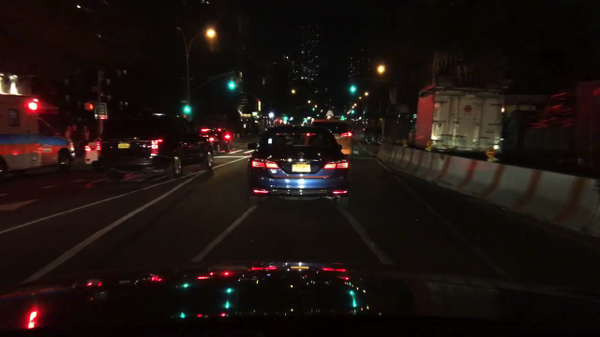bike: (367, 135, 384, 144)
car: (248, 125, 350, 210), (99, 110, 216, 180), (311, 118, 354, 162), (200, 127, 235, 154), (81, 133, 103, 169), (241, 118, 260, 136)
traffic light: (184, 104, 190, 115), (350, 85, 355, 95), (87, 103, 94, 110), (230, 77, 234, 89), (350, 110, 354, 114), (283, 117, 287, 120), (313, 108, 314, 110)
traffic sign: (94, 103, 107, 119), (389, 85, 396, 104), (93, 87, 98, 92), (181, 101, 189, 103)
truck: (0, 92, 75, 175)
